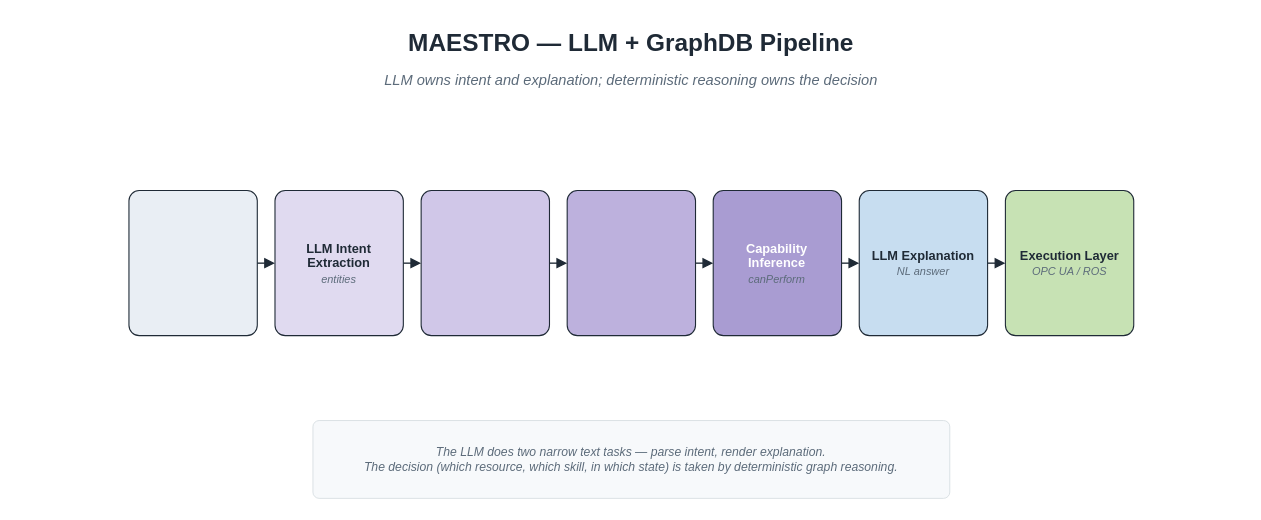
This 1261x520 diagram has some shape labels left out. The shapes that lost their labels are listed below. From the top down, each one's centre as x and y in pixels, then its label:
At (x=192, y=262): "User Command NL input".
At (x=484, y=262): "SPARQL Generation fill template".
At (x=631, y=262): "GraphDB Reasoning OWL · SHACL".
